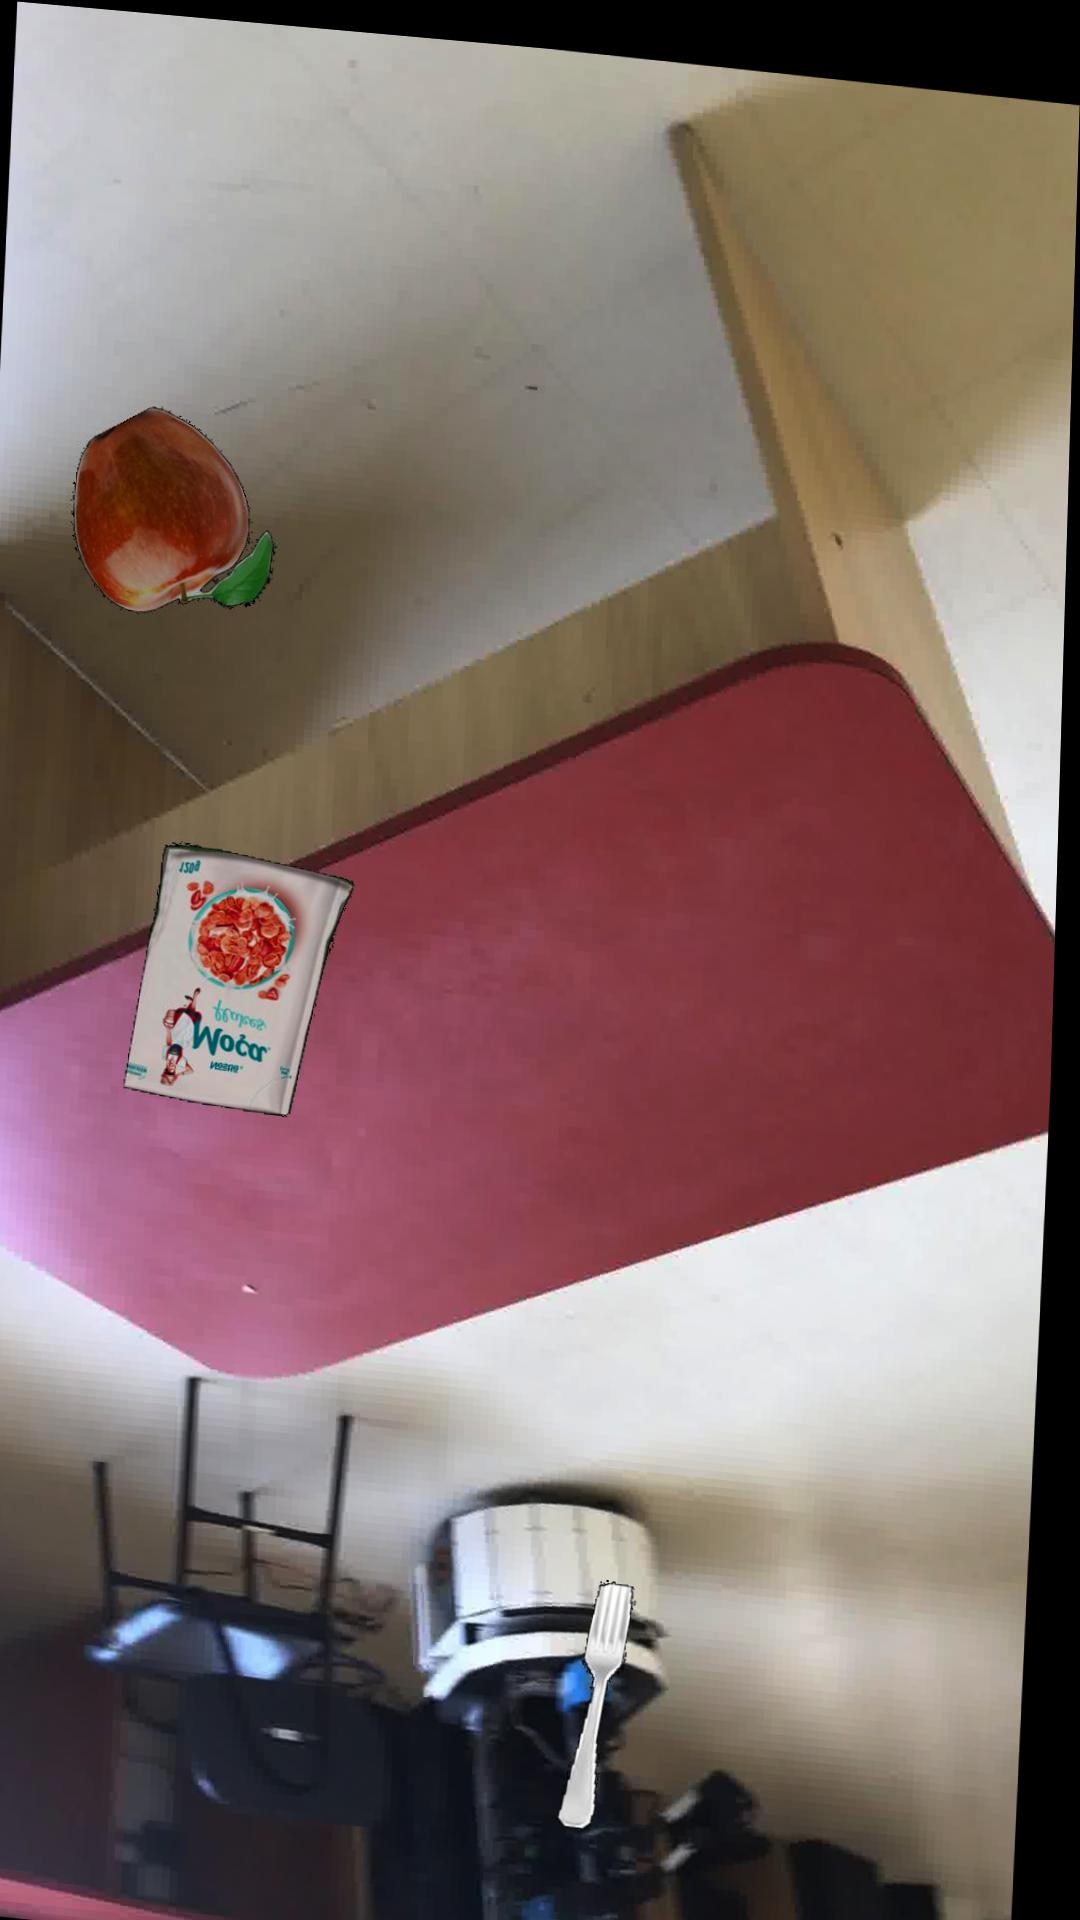apple: (73, 405, 277, 612)
corn flakes: (128, 841, 356, 1112)
fork: (566, 1571, 641, 1817)
